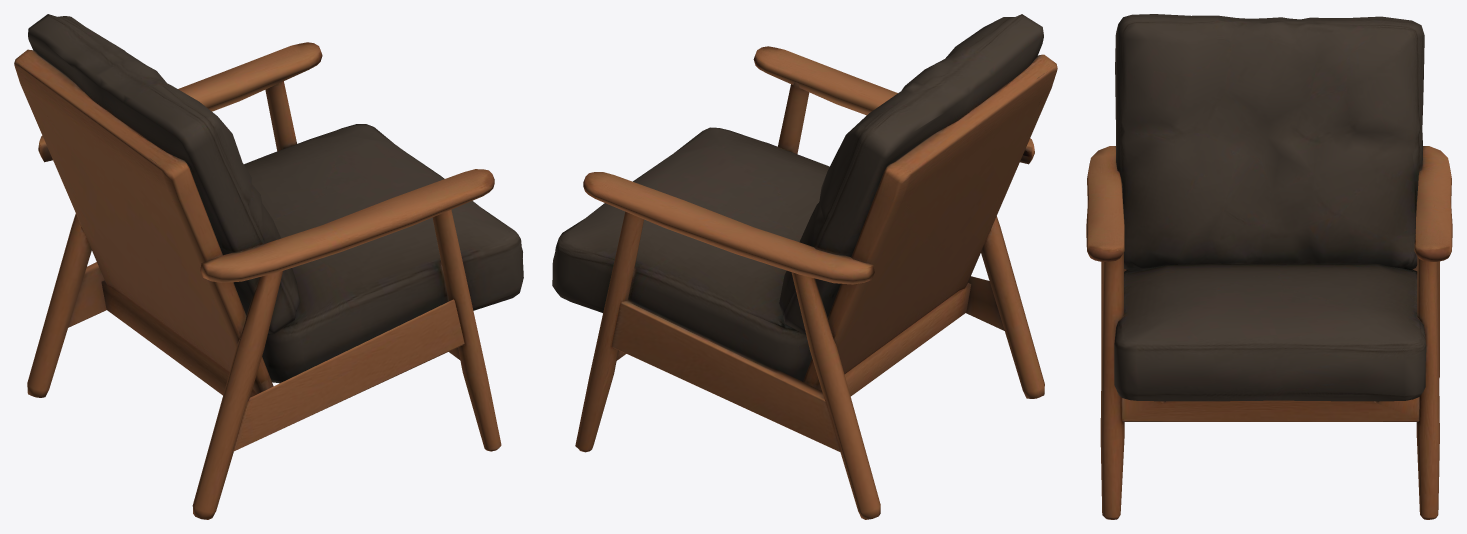
File: armchair.glb
The picture shows the model from 3 angles, left to right: view 1: azimuth 30°, elevation 25°; view 2: azimuth 150°, elevation 25°; view 3: azimuth 270°, elevation 25°; orthographic projection. The views are drawn at different scales.
Parts seen in each view (by area): view 1: tripo_node_c84a3ee7-5313-43ff-a6a0-cc198c0b7b81; view 2: tripo_node_c84a3ee7-5313-43ff-a6a0-cc198c0b7b81; view 3: tripo_node_c84a3ee7-5313-43ff-a6a0-cc198c0b7b81.
Part boxes in pixels (bbox=[...]): tripo_node_c84a3ee7-5313-43ff-a6a0-cc198c0b7b81: bbox=[14, 14, 523, 519]; tripo_node_c84a3ee7-5313-43ff-a6a0-cc198c0b7b81: bbox=[552, 14, 1057, 519]; tripo_node_c84a3ee7-5313-43ff-a6a0-cc198c0b7b81: bbox=[1086, 14, 1452, 519].
Bounding box in the file's own units: 0.9746 × 0.998 × 0.8926.
1 material, 1 textured.
